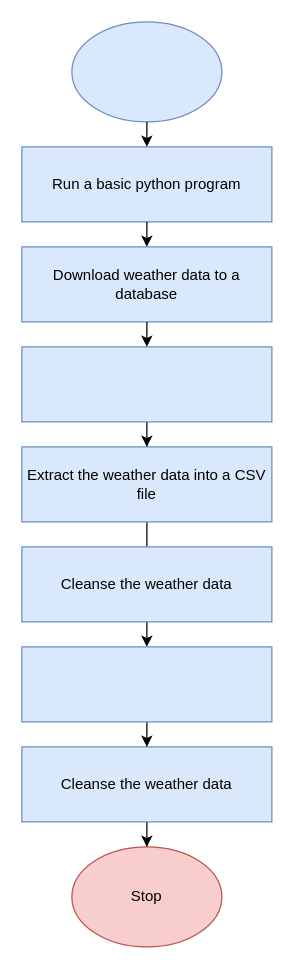
Some shapes in this 294 by 969 pixel diagram are drawn without their labels. Here are the shapes that lost their labels. From the top down, the centre of each, then its label:
(x=146, y=71): Start
(x=146, y=384): Query the weather data
(x=146, y=684): Use python analytic modules to develop graphical models
